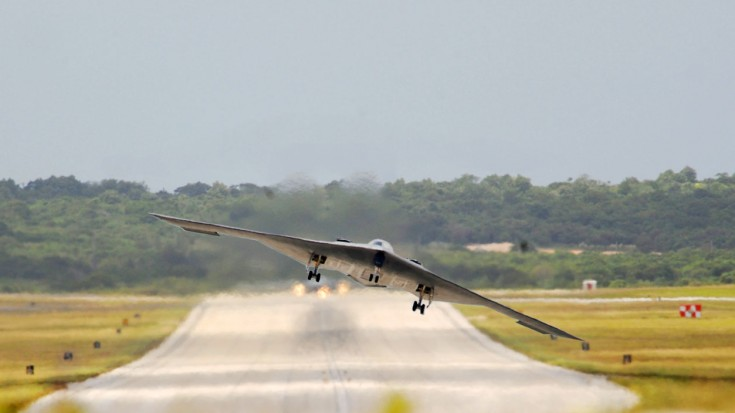B2: (146, 212, 585, 342)
